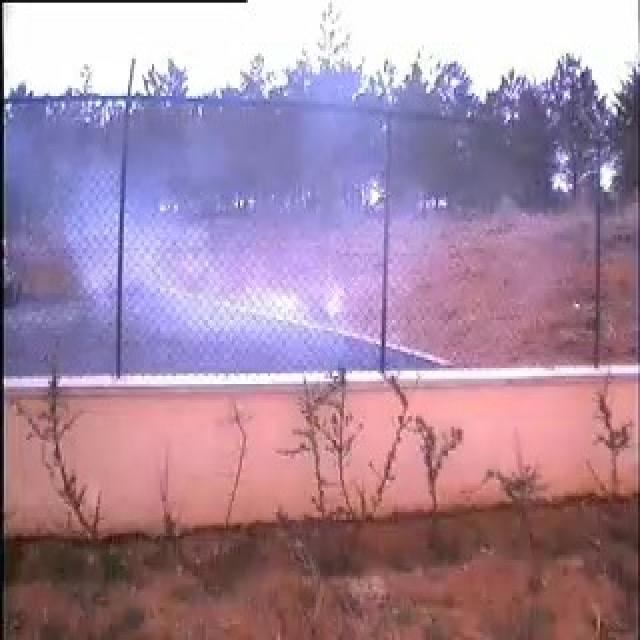smoke: (113, 104, 393, 371)
